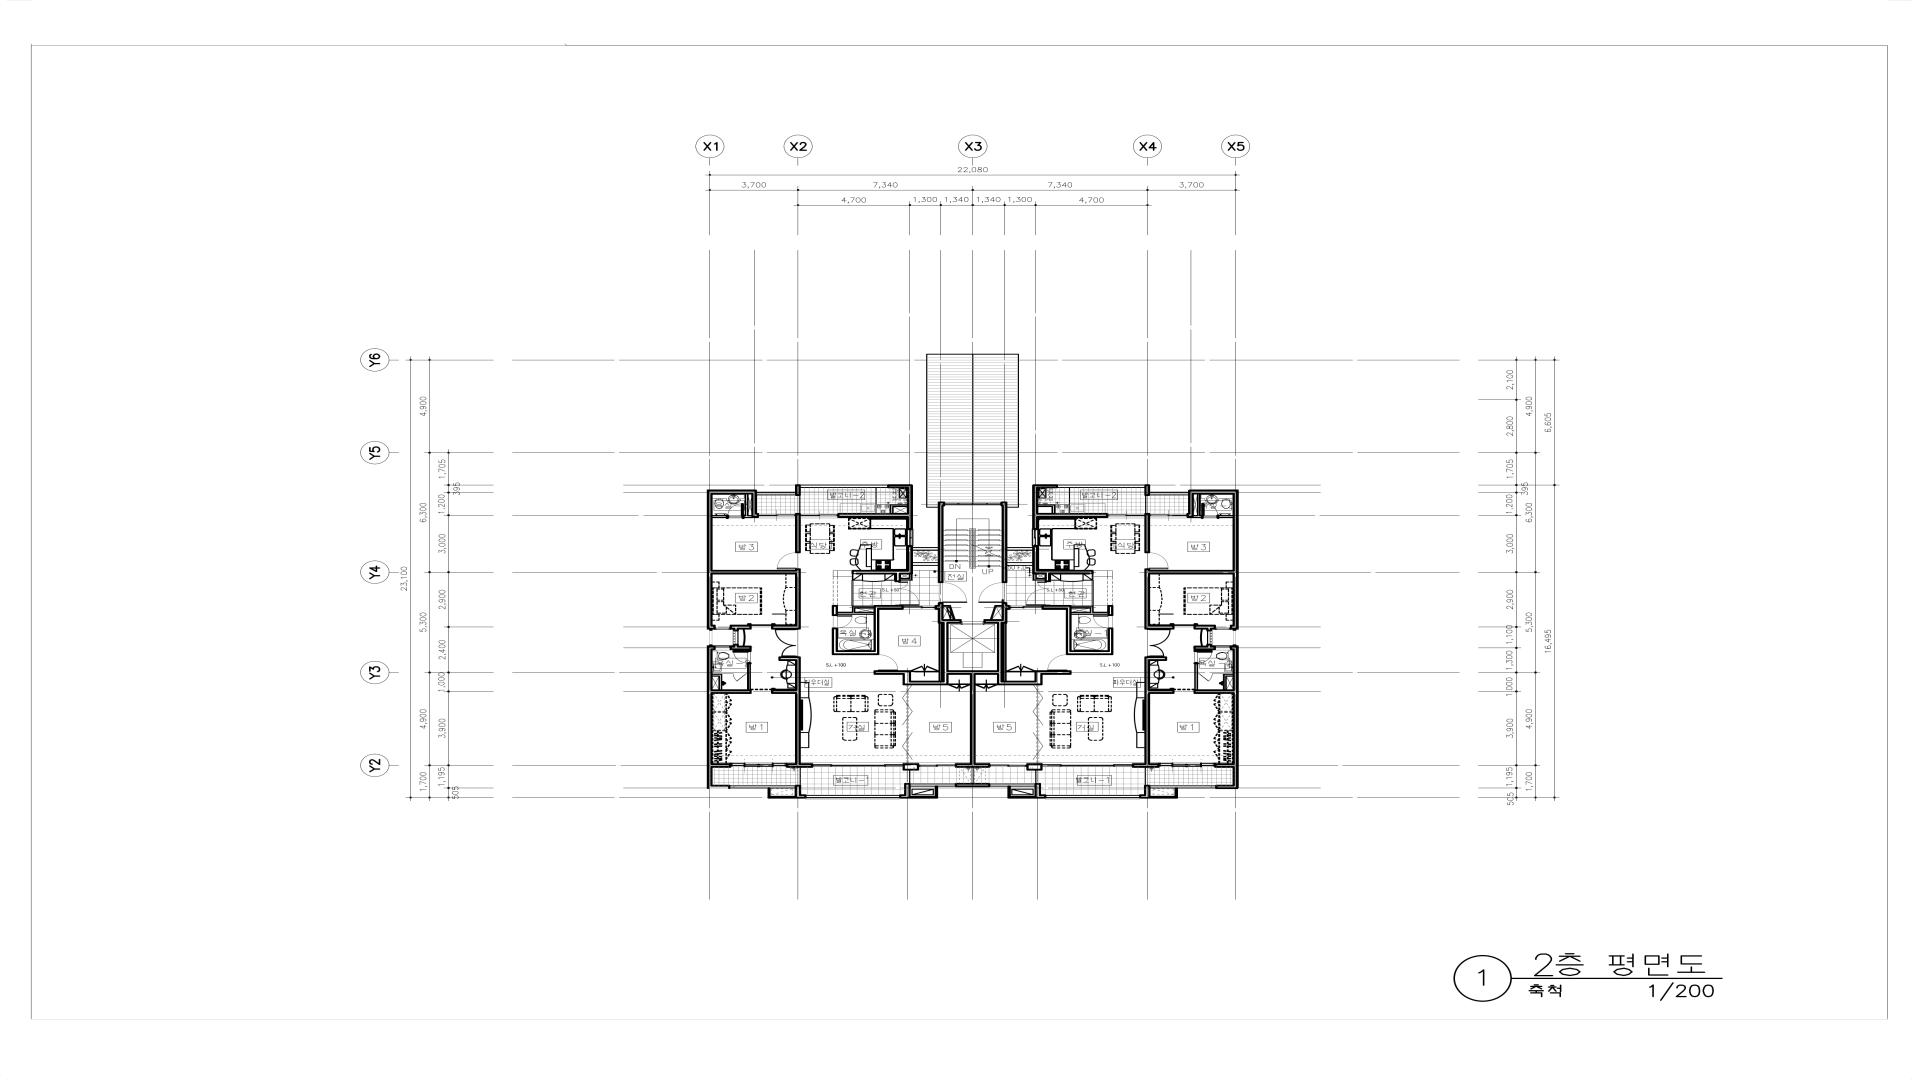door: (774, 629, 798, 657), (1147, 629, 1171, 657), (978, 582, 1007, 604), (938, 582, 967, 604), (1025, 582, 1047, 605), (898, 582, 919, 605), (777, 551, 800, 570), (1145, 551, 1168, 570), (725, 502, 745, 520), (1201, 502, 1220, 520), (832, 615, 853, 629), (878, 655, 898, 670), (1047, 655, 1067, 670), (732, 650, 752, 665), (1193, 650, 1213, 665), (1093, 615, 1113, 629), (1199, 674, 1213, 682), (733, 674, 746, 682)
wall: (707, 645, 712, 789), (1233, 645, 1238, 785), (1233, 489, 1238, 629), (707, 495, 712, 630), (969, 675, 976, 764), (1145, 657, 1150, 764), (795, 661, 800, 764), (938, 501, 944, 582), (712, 570, 800, 575), (1150, 570, 1233, 575), (1002, 501, 1007, 582), (839, 513, 907, 518), (997, 624, 1004, 675), (873, 605, 880, 655), (1065, 611, 1072, 655), (1145, 570, 1150, 625), (852, 570, 906, 575), (1039, 570, 1093, 575), (795, 575, 800, 629), (943, 624, 948, 675), (707, 489, 757, 495), (948, 670, 997, 675), (1188, 489, 1233, 495), (902, 680, 943, 686), (1072, 650, 1113, 655), (907, 488, 913, 529), (1004, 680, 1043, 686), (1033, 488, 1038, 527), (1145, 513, 1150, 551), (795, 513, 800, 551), (1033, 546, 1039, 575), (906, 546, 913, 575), (839, 650, 873, 655), (832, 629, 839, 655), (1193, 690, 1233, 694), (712, 690, 752, 694), (1043, 670, 1072, 675), (874, 670, 902, 675), (1044, 605, 1072, 611), (955, 783, 990, 787), (956, 764, 990, 767), (746, 665, 752, 690), (1150, 688, 1175, 694), (771, 688, 795, 694), (1188, 495, 1193, 518), (752, 495, 757, 518), (1145, 625, 1175, 629), (1193, 645, 1216, 650), (902, 764, 919, 770), (1026, 764, 1043, 770), (1108, 629, 1113, 650), (786, 764, 812, 767), (938, 604, 943, 624), (911, 795, 938, 799), (1035, 783, 1042, 799), (1151, 795, 1178, 799), (732, 645, 752, 650), (1133, 764, 1158, 767), (1195, 665, 1199, 690), (913, 562, 938, 566), (1007, 562, 1033, 566), (770, 795, 795, 799), (1033, 484, 1058, 488), (1007, 547, 1033, 551), (913, 547, 938, 551), (887, 484, 913, 488), (943, 618, 961, 624), (902, 670, 911, 680), (837, 612, 874, 615), (1034, 670, 1043, 680), (795, 785, 802, 799), (984, 620, 1007, 624), (1072, 612, 1108, 615), (1011, 795, 1035, 799), (771, 625, 795, 629), (1038, 514, 1106, 516), (778, 657, 800, 661), (880, 605, 902, 609), (1193, 625, 1216, 629), (1216, 785, 1238, 789), (729, 625, 752, 629), (949, 605, 956, 618), (990, 605, 997, 618), (1002, 604, 1007, 620), (1197, 495, 1201, 516), (1072, 605, 1093, 609), (745, 495, 749, 514), (856, 605, 874, 609), (712, 785, 731, 789), (997, 675, 1004, 686), (905, 783, 911, 794), (712, 764, 729, 767), (1150, 657, 1167, 661), (1216, 764, 1233, 767), (1139, 794, 1151, 799), (1145, 484, 1150, 496), (795, 484, 800, 496), (1143, 785, 1150, 794), (943, 675, 948, 686), (901, 794, 911, 799), (719, 676, 723, 690), (1044, 574, 1051, 582), (1222, 676, 1226, 690), (894, 504, 907, 508), (832, 605, 837, 615), (1108, 605, 1113, 615), (1007, 787, 1011, 799), (1038, 504, 1055, 506), (894, 575, 901, 582), (890, 504, 894, 513), (1220, 516, 1233, 518), (712, 516, 725, 518), (901, 578, 913, 580), (1051, 506, 1055, 514), (712, 674, 723, 676), (1222, 674, 1233, 676), (767, 789, 770, 799), (935, 786, 938, 796), (852, 605, 856, 612), (745, 514, 752, 518), (1033, 575, 1036, 580), (1036, 578, 1044, 580), (1193, 516, 1201, 518), (802, 794, 806, 799), (1042, 794, 1046, 799), (1175, 789, 1178, 796), (909, 574, 913, 578), (712, 625, 716, 629), (943, 605, 951, 607), (1089, 609, 1093, 612), (994, 605, 1002, 607)
window: (1044, 794, 1141, 799), (1042, 762, 1133, 767), (812, 762, 903, 767), (806, 795, 901, 799), (800, 484, 887, 488), (1058, 484, 1145, 488), (943, 501, 1002, 506), (729, 762, 786, 767), (1150, 785, 1216, 789), (729, 785, 795, 789), (1158, 762, 1216, 766), (800, 513, 840, 518), (757, 491, 795, 496), (1150, 491, 1188, 496), (1150, 513, 1188, 518), (1106, 513, 1145, 518), (757, 513, 795, 518), (990, 762, 1026, 767), (990, 783, 1035, 787), (911, 783, 955, 787), (1007, 605, 1044, 609), (919, 762, 956, 766), (1031, 529, 1039, 547), (902, 605, 938, 609), (907, 529, 914, 546), (1207, 629, 1213, 645), (712, 645, 732, 650), (1216, 645, 1233, 650), (1216, 625, 1233, 630), (733, 630, 738, 646), (716, 625, 729, 630), (1233, 629, 1237, 645), (709, 629, 713, 645)
